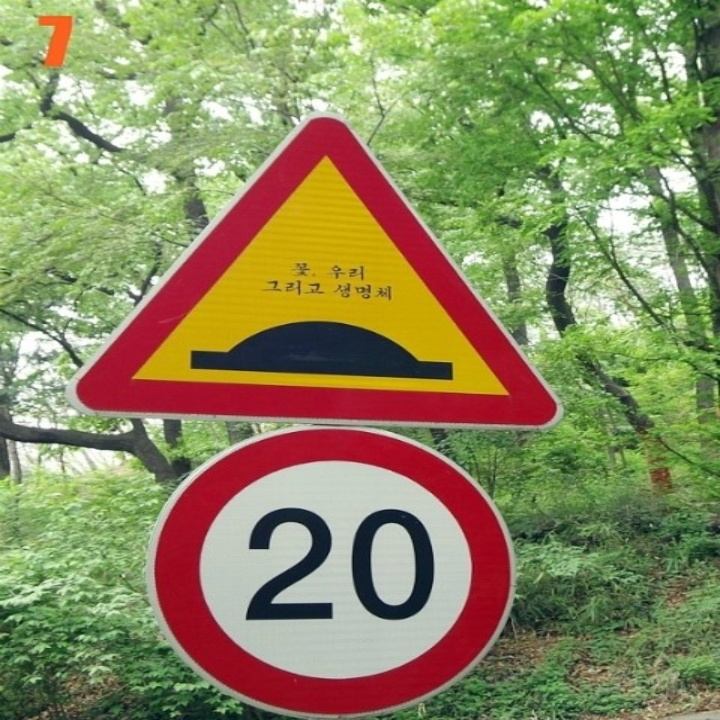bump: (181, 310, 475, 389)
